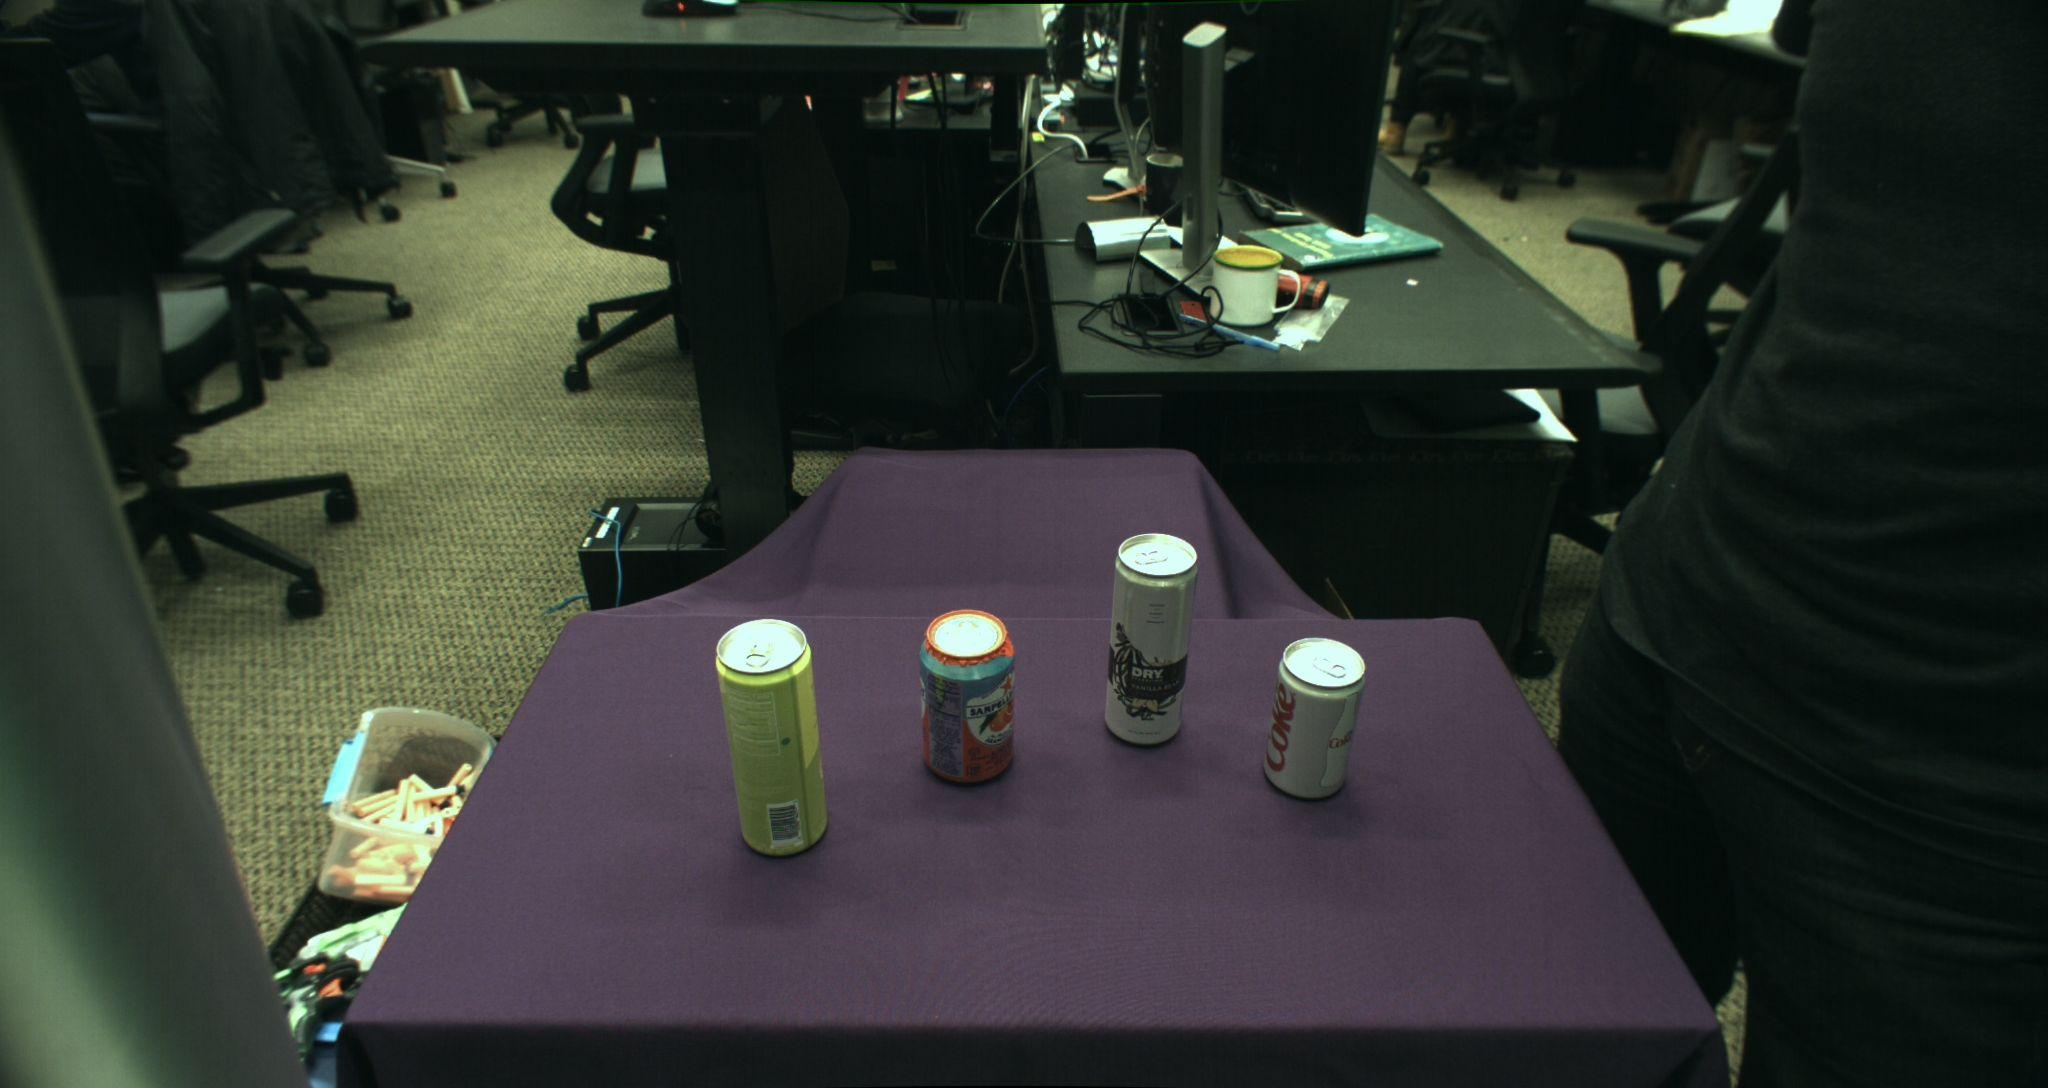can_diet_coke_small: (1264, 635, 1365, 799)
can_dry_sparkling_vanilla_bean: (1104, 532, 1197, 748)
can_izze_fusions_lemon_lime: (715, 616, 828, 858)
can_sanpellegrino_blood_orange: (918, 608, 1015, 784)
